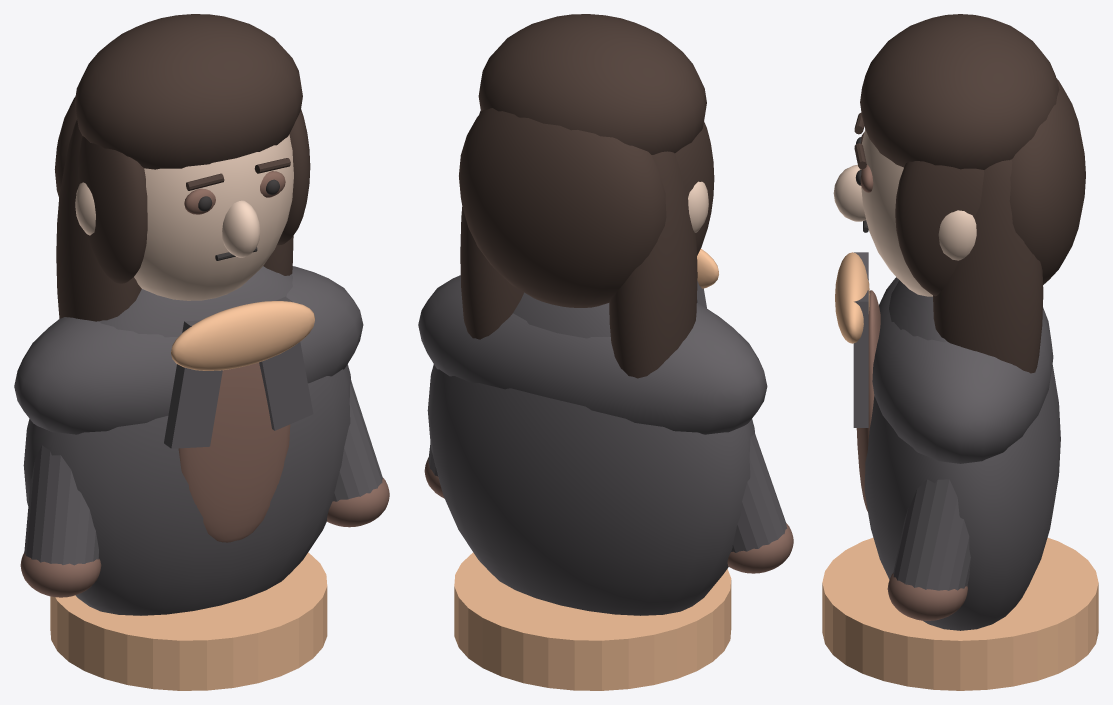
Rendered from sentiment.glb.
The picture shows the model from 3 angles, left to right: view 1: azimuth 30°, elevation 25°; view 2: azimuth 150°, elevation 25°; view 3: azimuth 270°, elevation 25°; orthographic projection.
Parts seen in each view (by area): view 1: Jacket torso, Hair cap, Bust plinth, Shoulder line, Head, Shirt front, Hair side lock.009, Amber scarf, Long hair.001, Arm.009, Jacket lapel.008, Jacket lapel.009 (+8 smaller); view 2: Jacket torso, Rear hair, Shoulder line, Hair cap, Bust plinth, Long hair.001, Long hair, Arm.009, Hair side lock.009, Cuff.009, Ear.009, Amber scarf; view 3: Bust plinth, Jacket torso, Hair cap, Shoulder line, Long hair, Rear hair, Hair side lock, Arm, Head, Amber scarf, Cuff, Jacket lapel.009 (+3 smaller).
Boxes of the visible parts, x1,y1,x2,y2 form: Jacket torso: [23, 266, 351, 615]; Hair cap: [74, 14, 302, 169]; Bust plinth: [50, 552, 327, 690]; Shoulder line: [14, 266, 363, 434]; Head: [134, 134, 293, 300]; Shirt front: [178, 362, 290, 542]; Hair side lock.009: [78, 136, 147, 283]; Amber scarf: [171, 301, 314, 370]; Long hair.001: [56, 119, 141, 321]; Arm.009: [24, 445, 98, 565]; Jacket lapel.008: [164, 320, 222, 448]; Jacket lapel.009: [259, 296, 313, 430]; Jacket torso: [427, 292, 755, 615]; Rear hair: [459, 108, 666, 307]; Shoulder line: [418, 275, 767, 434]; Hair cap: [478, 14, 706, 154]; Bust plinth: [454, 552, 731, 690]; Long hair.001: [609, 151, 697, 378]; Long hair: [460, 111, 523, 339]; Arm.009: [731, 434, 787, 552]; Hair side lock.009: [675, 121, 714, 255]; Cuff.009: [727, 523, 793, 573]; Ear.009: [688, 181, 708, 232]; Amber scarf: [697, 249, 718, 288]; Bust plinth: [822, 538, 1098, 690]; Jacket torso: [864, 280, 1060, 630]; Hair cap: [860, 14, 1059, 169]; Shoulder line: [872, 277, 1053, 463]; Long hair: [933, 159, 1043, 373]; Rear hair: [1009, 78, 1085, 284]; Hair side lock: [895, 161, 984, 296]; Arm: [893, 479, 970, 590]; Head: [860, 129, 932, 296]; Amber scarf: [835, 252, 869, 343]; Cuff: [887, 573, 967, 620]; Jacket lapel.009: [853, 290, 868, 427].
Bounding box in the file's own units: 1.64 × 2.65 × 1.1.
